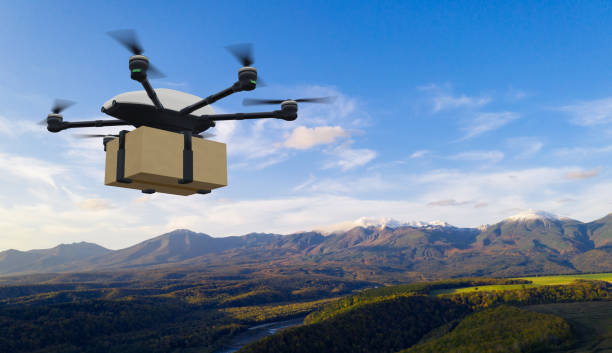Drone: (34, 20, 342, 138)
